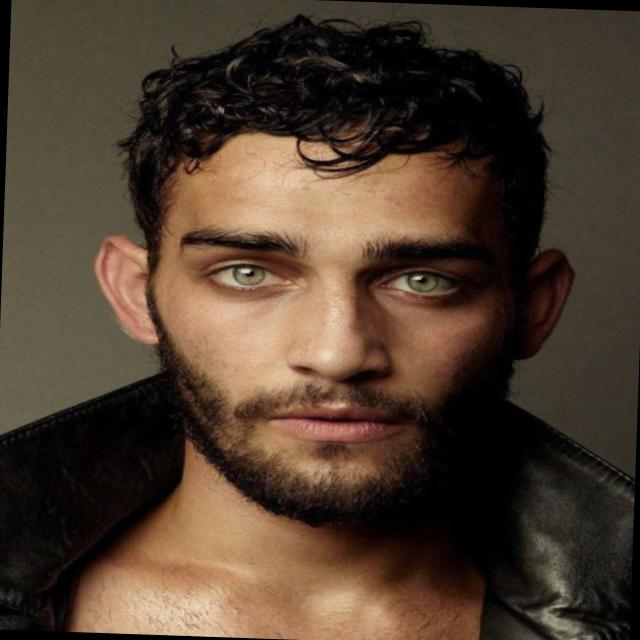face: (92, 14, 608, 542)
